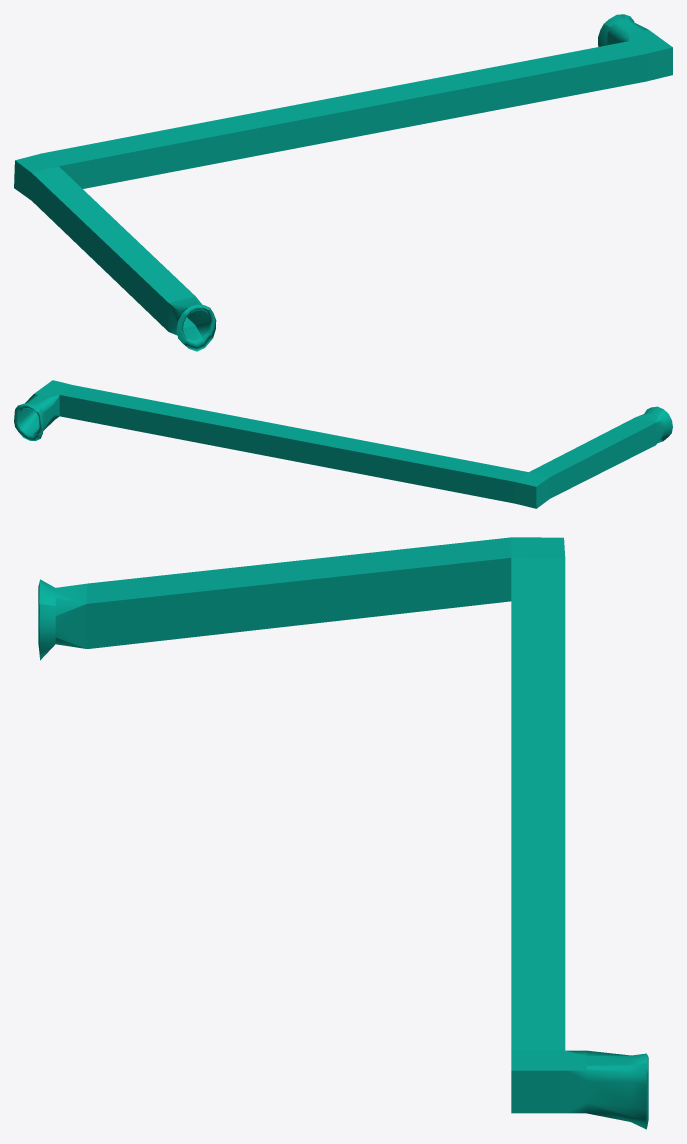
The model's file is SM_VentBathrooms_1.6.fbx.
3 renders of one model, top to bottom at view 1: azimuth 30°, elevation 25°; view 2: azimuth 150°, elevation 25°; view 3: azimuth 270°, elevation 25°, orthographic. The views are drawn at different scales.
Parts seen in each view (by area): view 1: SM_VentBathrooms_1_6; view 2: SM_VentBathrooms_1_6; view 3: SM_VentBathrooms_1_6.
Part boxes in pixels (<box>): SM_VentBathrooms_1_6: <box>14,14,672,351</box>; SM_VentBathrooms_1_6: <box>14,380,672,508</box>; SM_VentBathrooms_1_6: <box>38,537,648,1129</box>.
Bounding box in the file's own units: 3189 × 344 × 1661.
